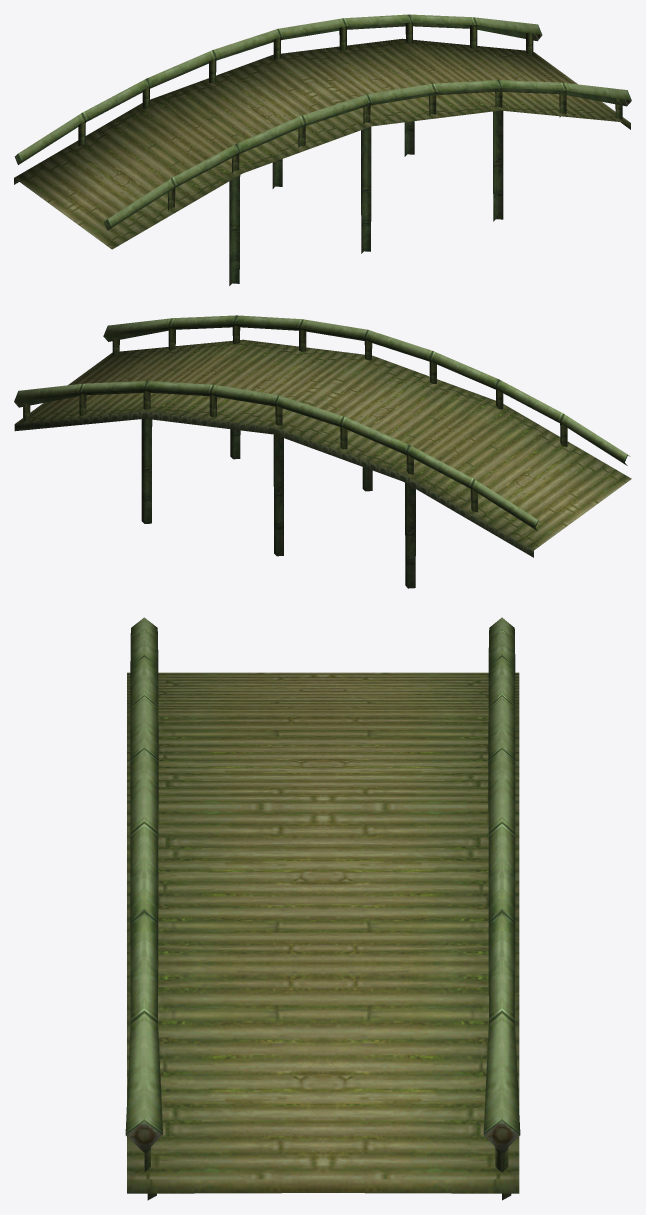
The model's file is yw_yanziwu_zhuqiao01.FBX.
The picture shows the model from 3 angles, top to bottom: view 1: azimuth 30°, elevation 25°; view 2: azimuth 150°, elevation 25°; view 3: azimuth 270°, elevation 25°; orthographic projection. The views are drawn at different scales.
Parts seen in each view (by area): view 1: yw_yanziwu_zhuqiao01; view 2: yw_yanziwu_zhuqiao01; view 3: yw_yanziwu_zhuqiao01.
Boxes of the visible parts, bbox=[...] form: yw_yanziwu_zhuqiao01: bbox=[14, 14, 631, 285]; yw_yanziwu_zhuqiao01: bbox=[14, 315, 631, 588]; yw_yanziwu_zhuqiao01: bbox=[125, 617, 520, 1200].
Bounding box in the file's own units: 2257 × 660 × 741.
